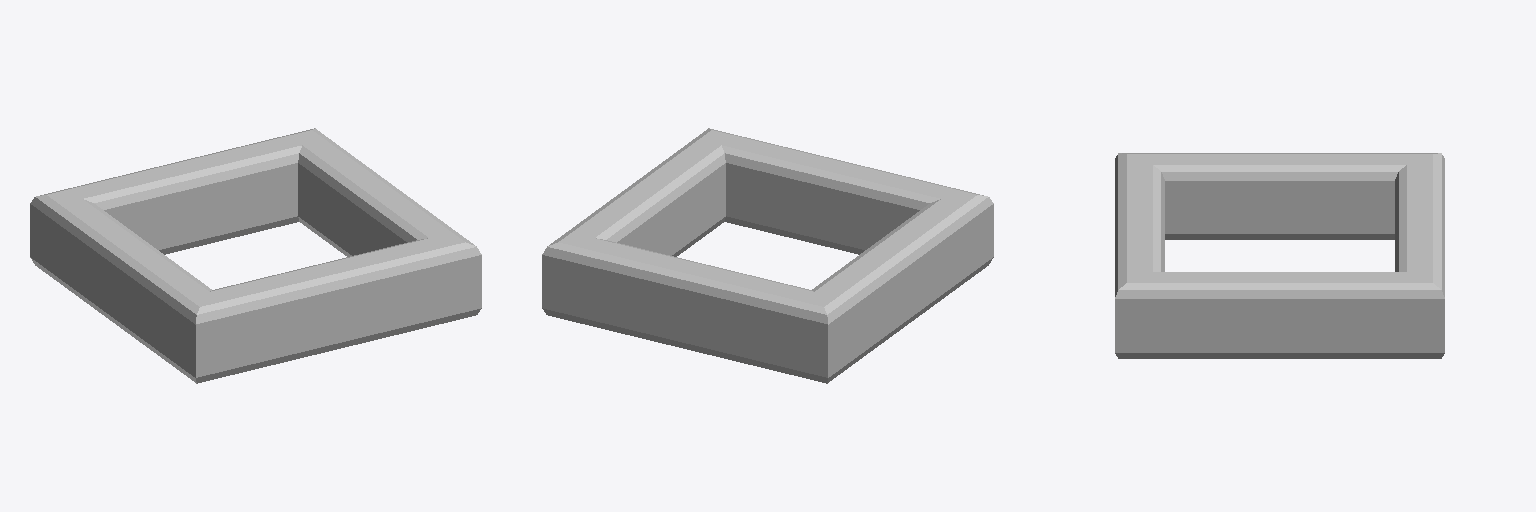
Rendered from ballotbox.obj.
3 views of the same model, side by side, from view 1: azimuth 30°, elevation 25°; view 2: azimuth 150°, elevation 25°; view 3: azimuth 270°, elevation 25° (orthographic).
Parts seen in each view (by area): view 1: A_Text; view 2: A_Text; view 3: A_Text.
Part boxes in pixels (left/top/right/bottom): A_Text: left=30, top=128, right=481, bottom=383; A_Text: left=542, top=128, right=993, bottom=383; A_Text: left=1115, top=153, right=1444, bottom=358.
Size of the model in its own units: 0.5596 by 0.14 by 0.5596.